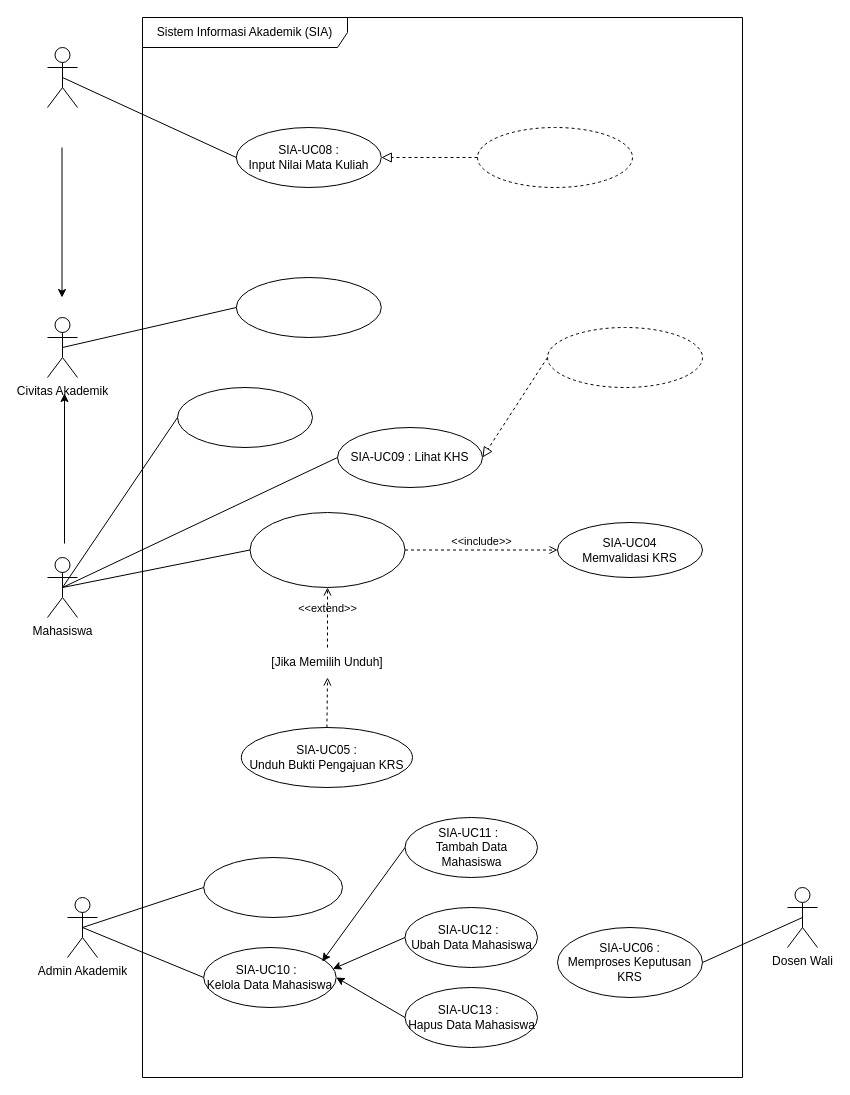
The diagram is 850 pixels wide and 1095 high, and some of its shapes have lost their labels. Here are the shapes that lost their labels. From the top down, the centre of each, then its label:
[62,77]: Dosen
[554,157]: SIA-CO01 : Input Nilai Mata kuliah
[308,307]: SIA-UC07 : Lihat Kalender Akademik
[624,357]: SIA-CO02 : Lihat KHS
[244,417]: SIA-UC02 : Melihat Jadwal Kuliah
[327,550]: SIA-UC03 Mengajukan KRS
[272,887]: SIA-UC01 : Mengelola Jadwal Kuliah
